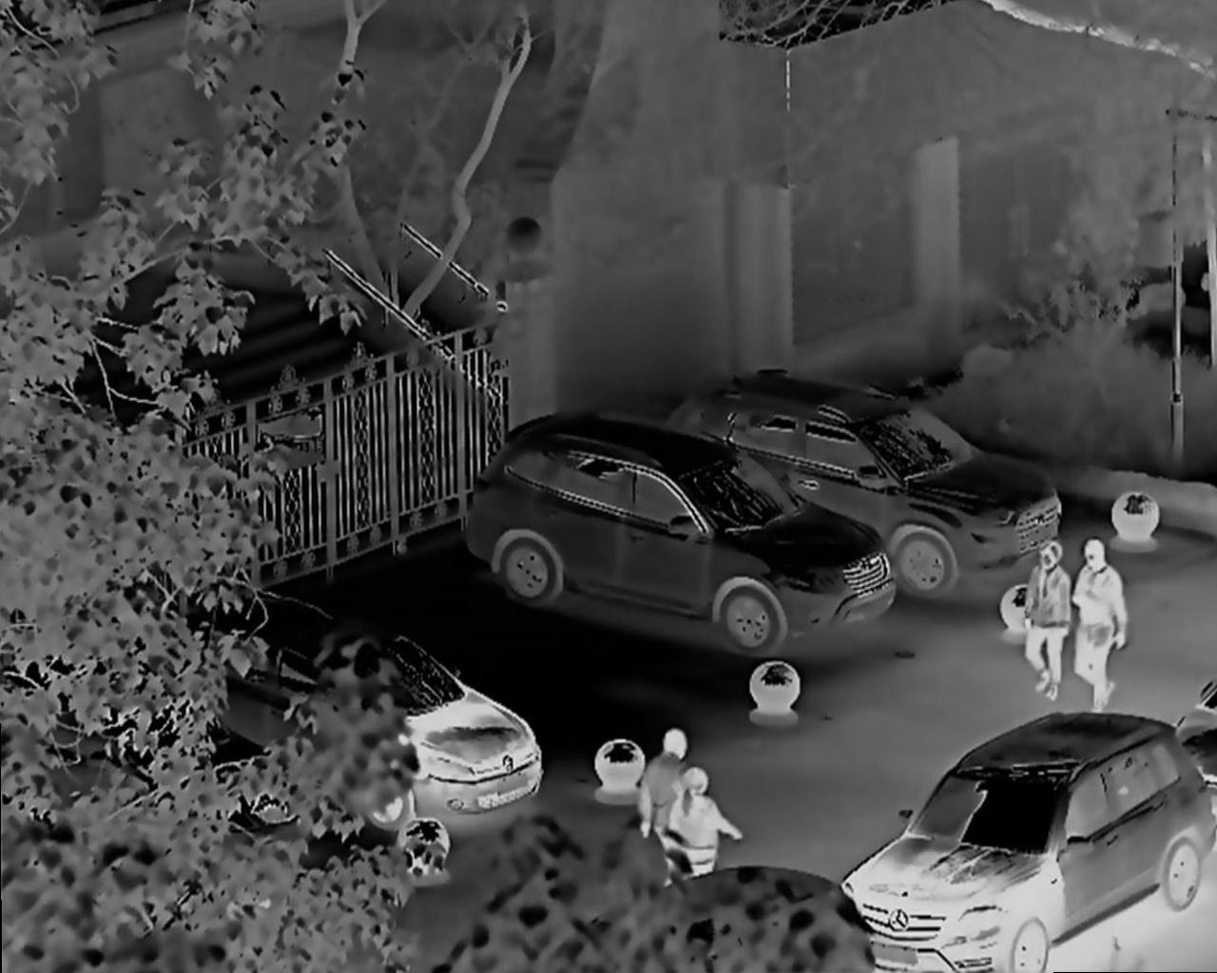person: (1069, 535, 1133, 710), (1028, 535, 1066, 700), (675, 773, 731, 882), (646, 712, 686, 851)
